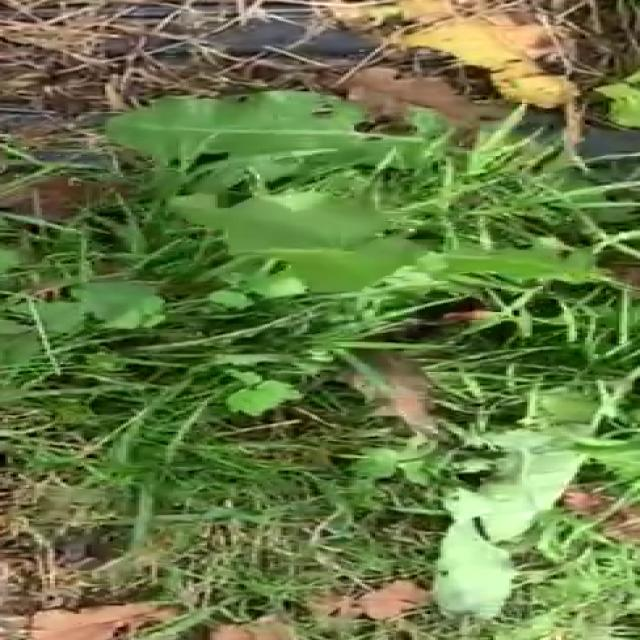organic waste: (115, 65, 640, 466)
